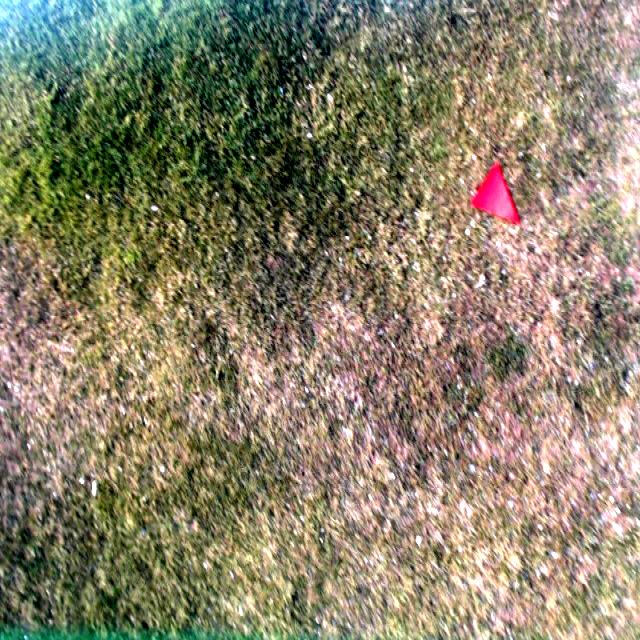red_triangle: (472, 164, 520, 225)
